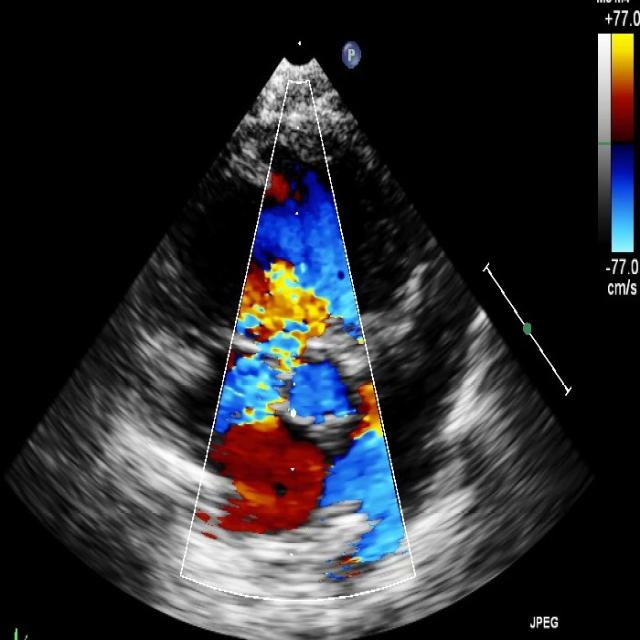VSDType2: (239, 264, 349, 404)
